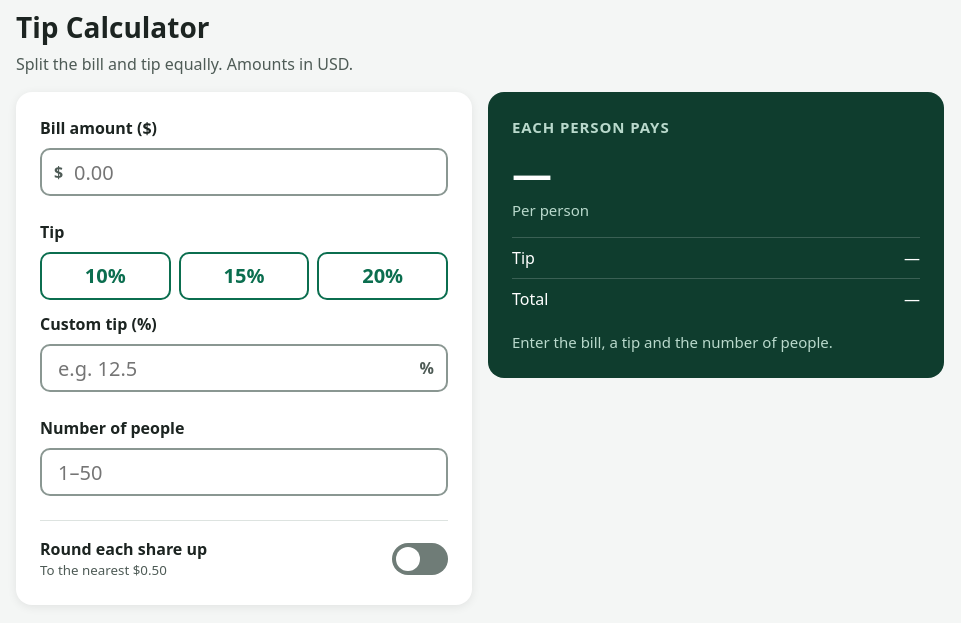
Test: S4: Round each share up to $0.50 › switching round-up off restores the original share and hides the rounded lines
The width and height of the screenshot is (961, 623).
Type "85.40" into the field labelled "Bill amount ($)" at (244, 172), box top-left (40, 148), bottom-right (448, 196)
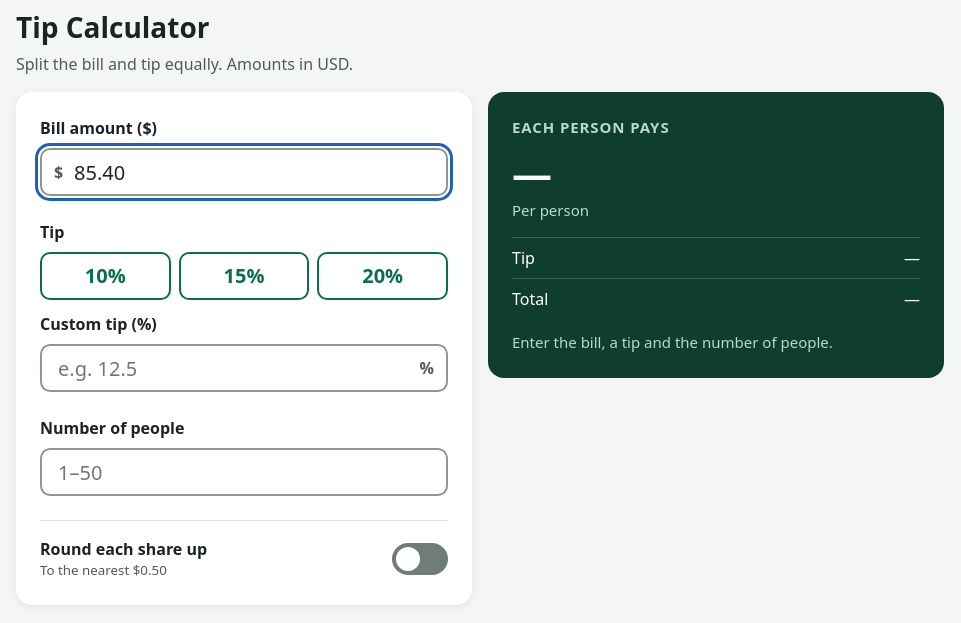
Click the button "20%" at (383, 276), box top-left (317, 252), bottom-right (448, 300)
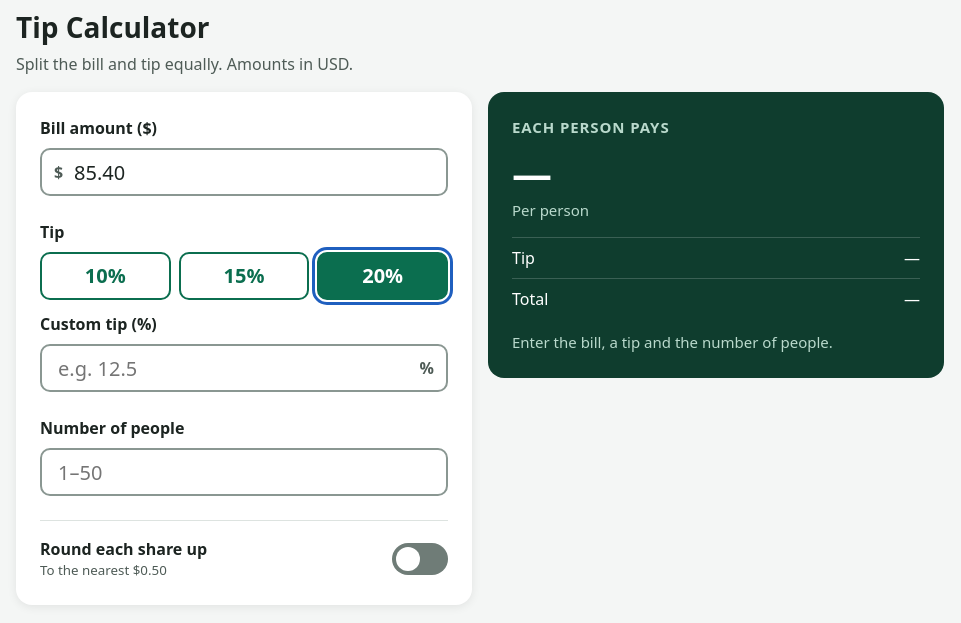
Type "3" into the field labelled "Number of people" at (244, 472), box top-left (40, 448), bottom-right (448, 496)
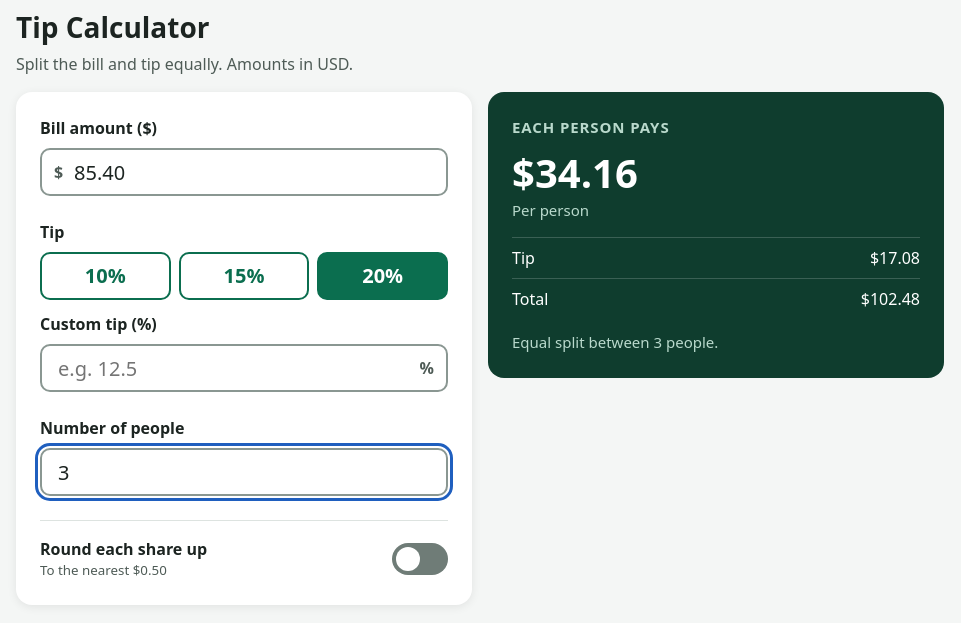
Click the switch labelled "Round each share up To the nearest $0.50" at (124, 559), box top-left (40, 537), bottom-right (207, 581)
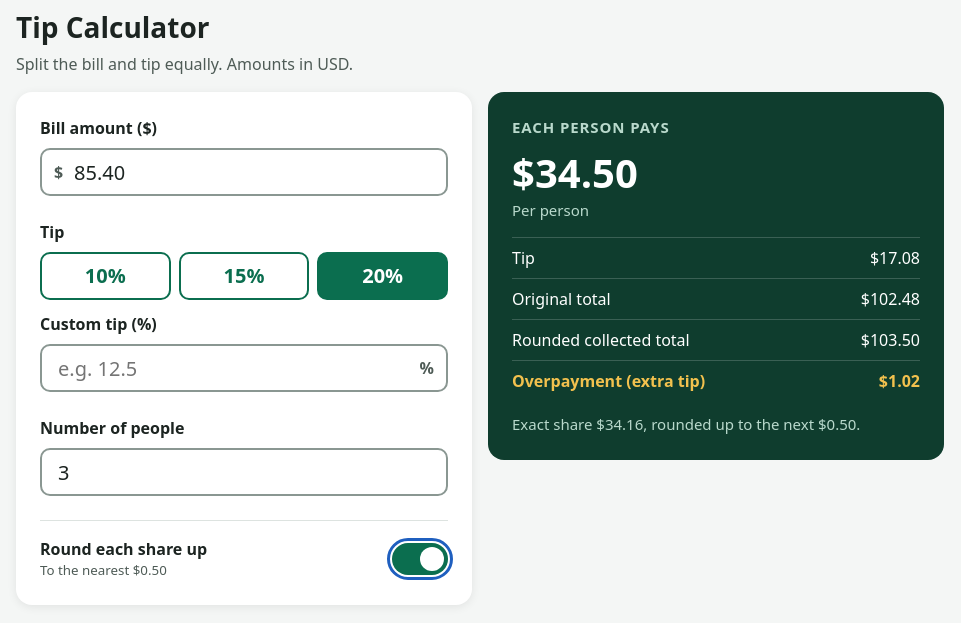
Click the switch labelled "Round each share up To the nearest $0.50" at (124, 559), box top-left (40, 537), bottom-right (207, 581)
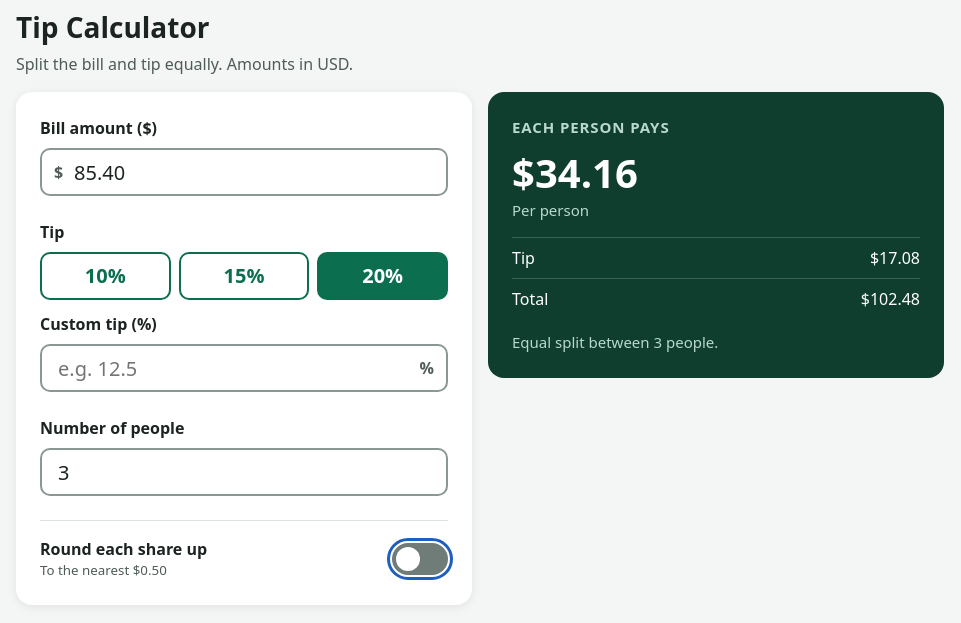
Expected: the text "Original total" is gone
Expected: the text "Rounded collected total" is gone
Expected: the text "Overpayment (extra tip)" is gone
